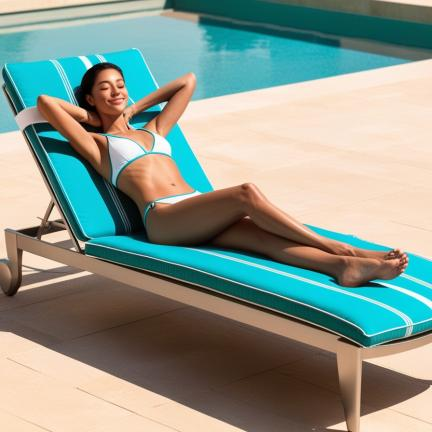guest on chair: (0, 49, 432, 432)
